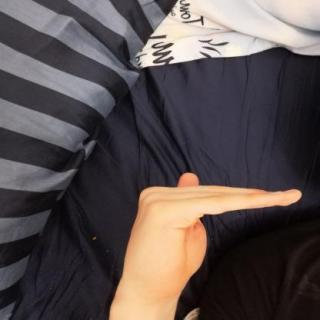KHAA: (106, 165, 312, 302)
